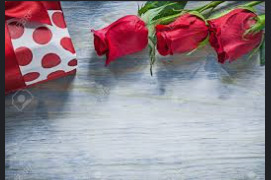RedRose: (212, 2, 269, 66), (85, 13, 150, 67), (153, 10, 209, 61)
